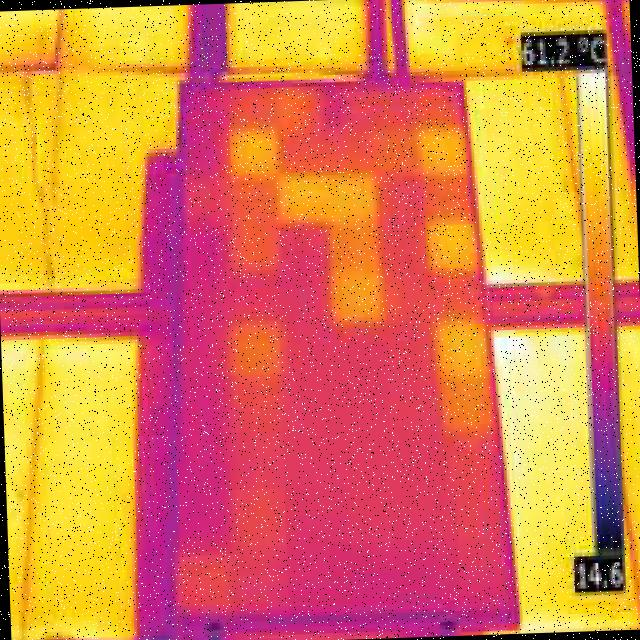Hotspot: (228, 120, 390, 333), (428, 306, 494, 442), (220, 312, 285, 388), (412, 112, 471, 186), (420, 214, 480, 280)
